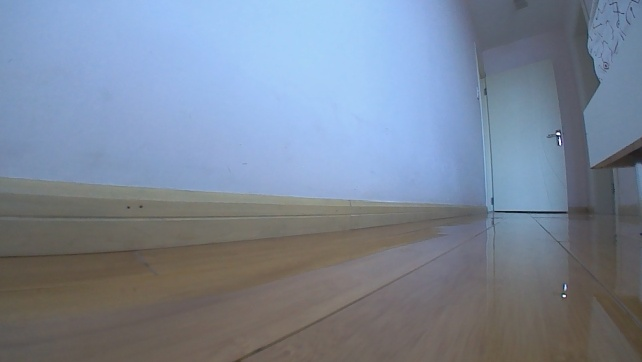door_anno: (476, 56, 571, 215)
